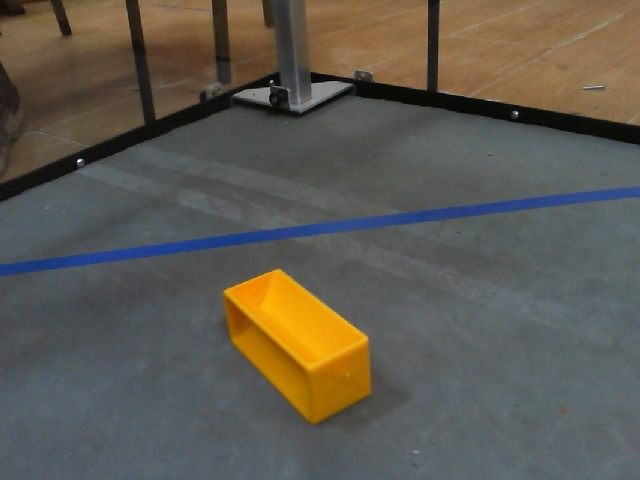YellowSample: (216, 264, 380, 433)
